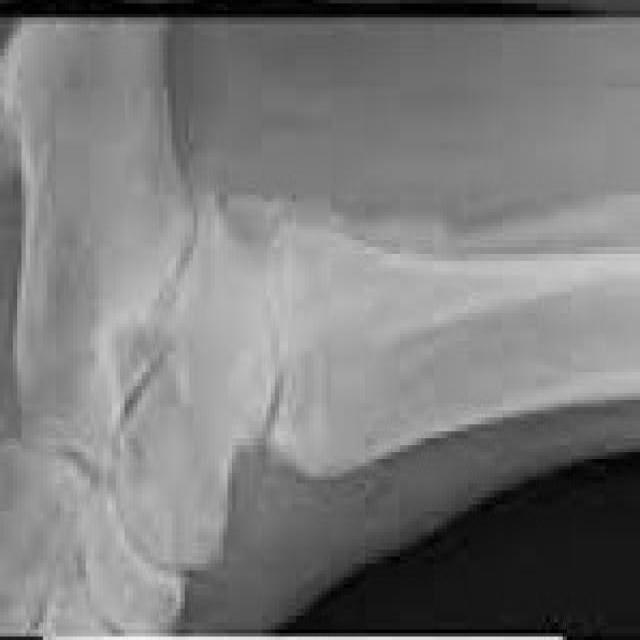Fracture: (86, 88, 318, 613)
